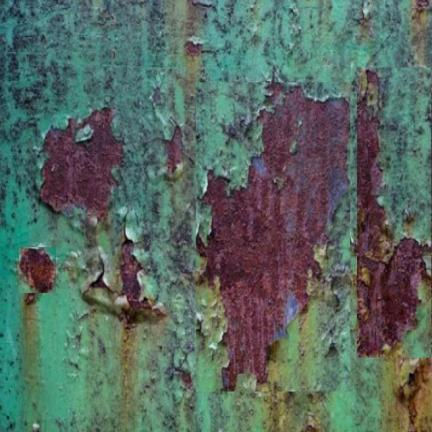karat: (196, 84, 348, 389), (356, 70, 426, 356), (40, 108, 122, 218), (402, 358, 431, 431), (122, 240, 150, 309), (20, 248, 55, 292), (165, 126, 182, 179)
